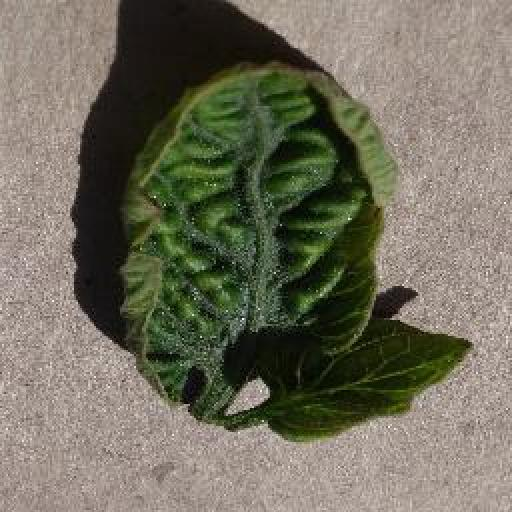disease_tomato: (116, 61, 396, 408)
